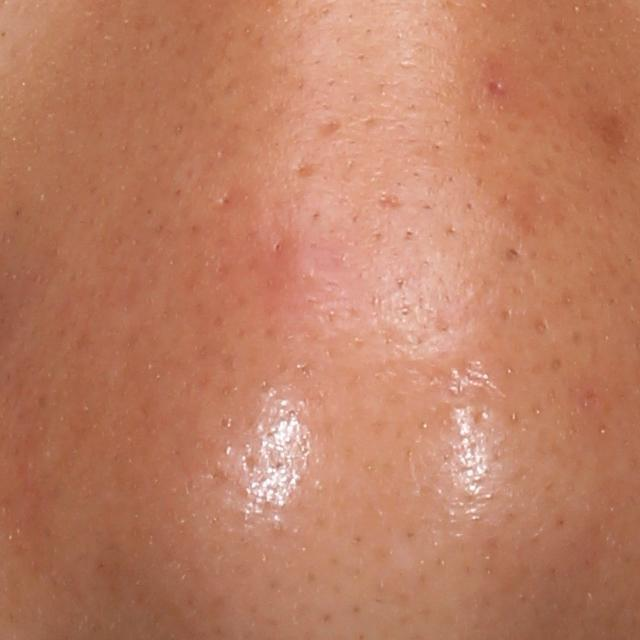atrophic_scar: (411, 356, 505, 402), (314, 116, 343, 140), (376, 191, 403, 212), (295, 158, 321, 178)
